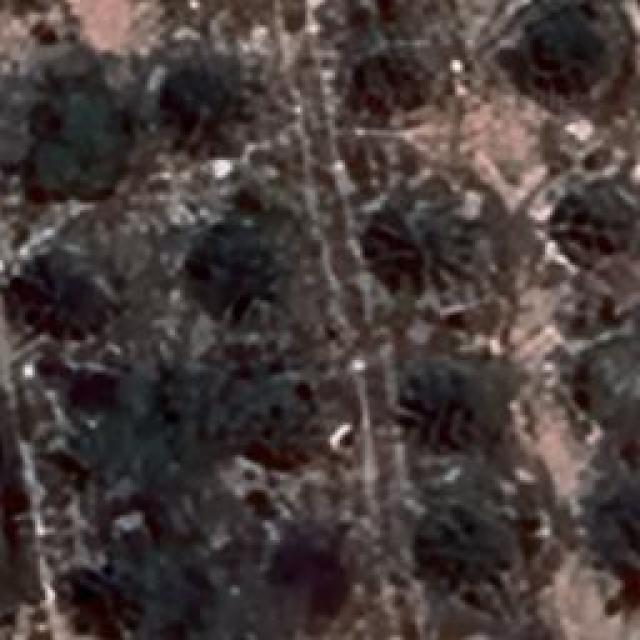PalmTree: (60, 98, 608, 518), (63, 95, 610, 373), (8, 248, 104, 350), (352, 52, 456, 136), (178, 62, 268, 156), (384, 376, 492, 449), (370, 210, 475, 285), (526, 11, 619, 94), (422, 488, 502, 584), (555, 182, 640, 248), (46, 112, 112, 190), (235, 387, 300, 465), (61, 556, 129, 629), (185, 228, 260, 294)
